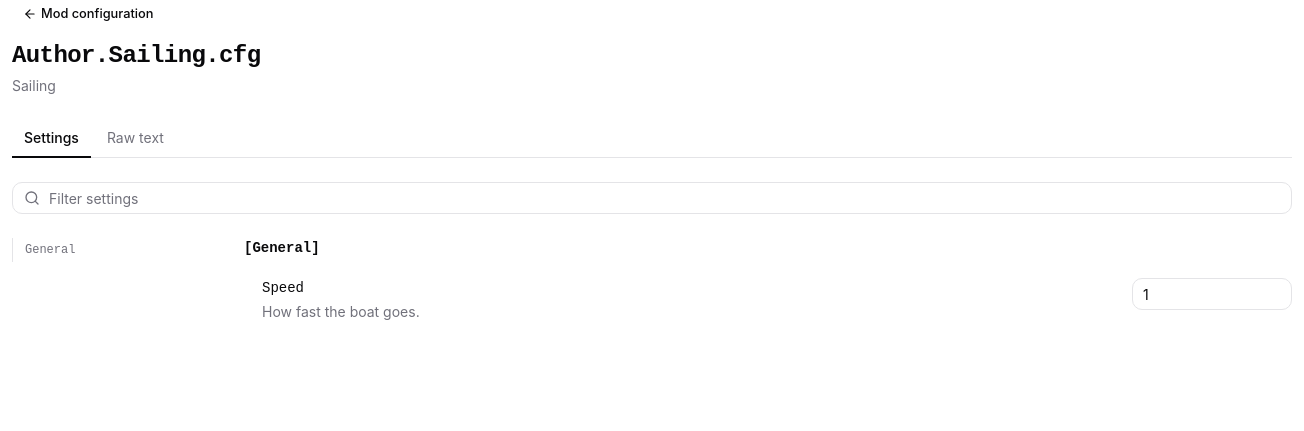
Scenario: the raw config editor › is unavailable while the form holds unsaved changes
The width and height of the screenshot is (1304, 431).
Replace the text in the number field labelled "Speed" with "2.5": x=1212, y=294 [1132, 278, 1292, 310]
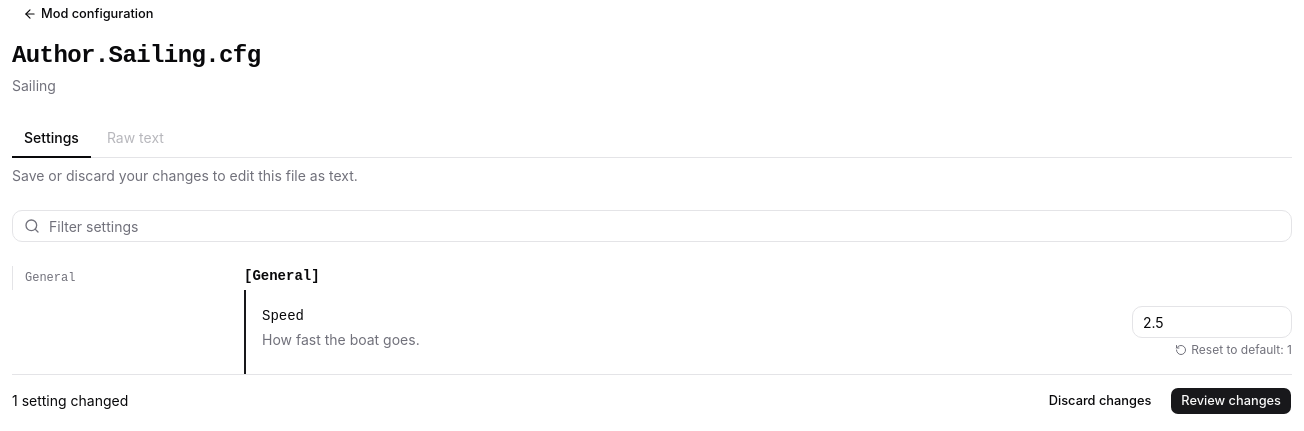
Check: the text "Save or discard your changes to edit this file as text." is shown, box [12, 167, 358, 184]
